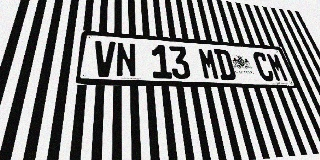1: (150, 44, 172, 79)
3: (169, 46, 191, 79)
C: (251, 52, 276, 82)
D: (213, 49, 237, 80)
M: (197, 48, 220, 80), (265, 53, 290, 82)
N: (116, 42, 137, 78)
V: (93, 40, 115, 77)
